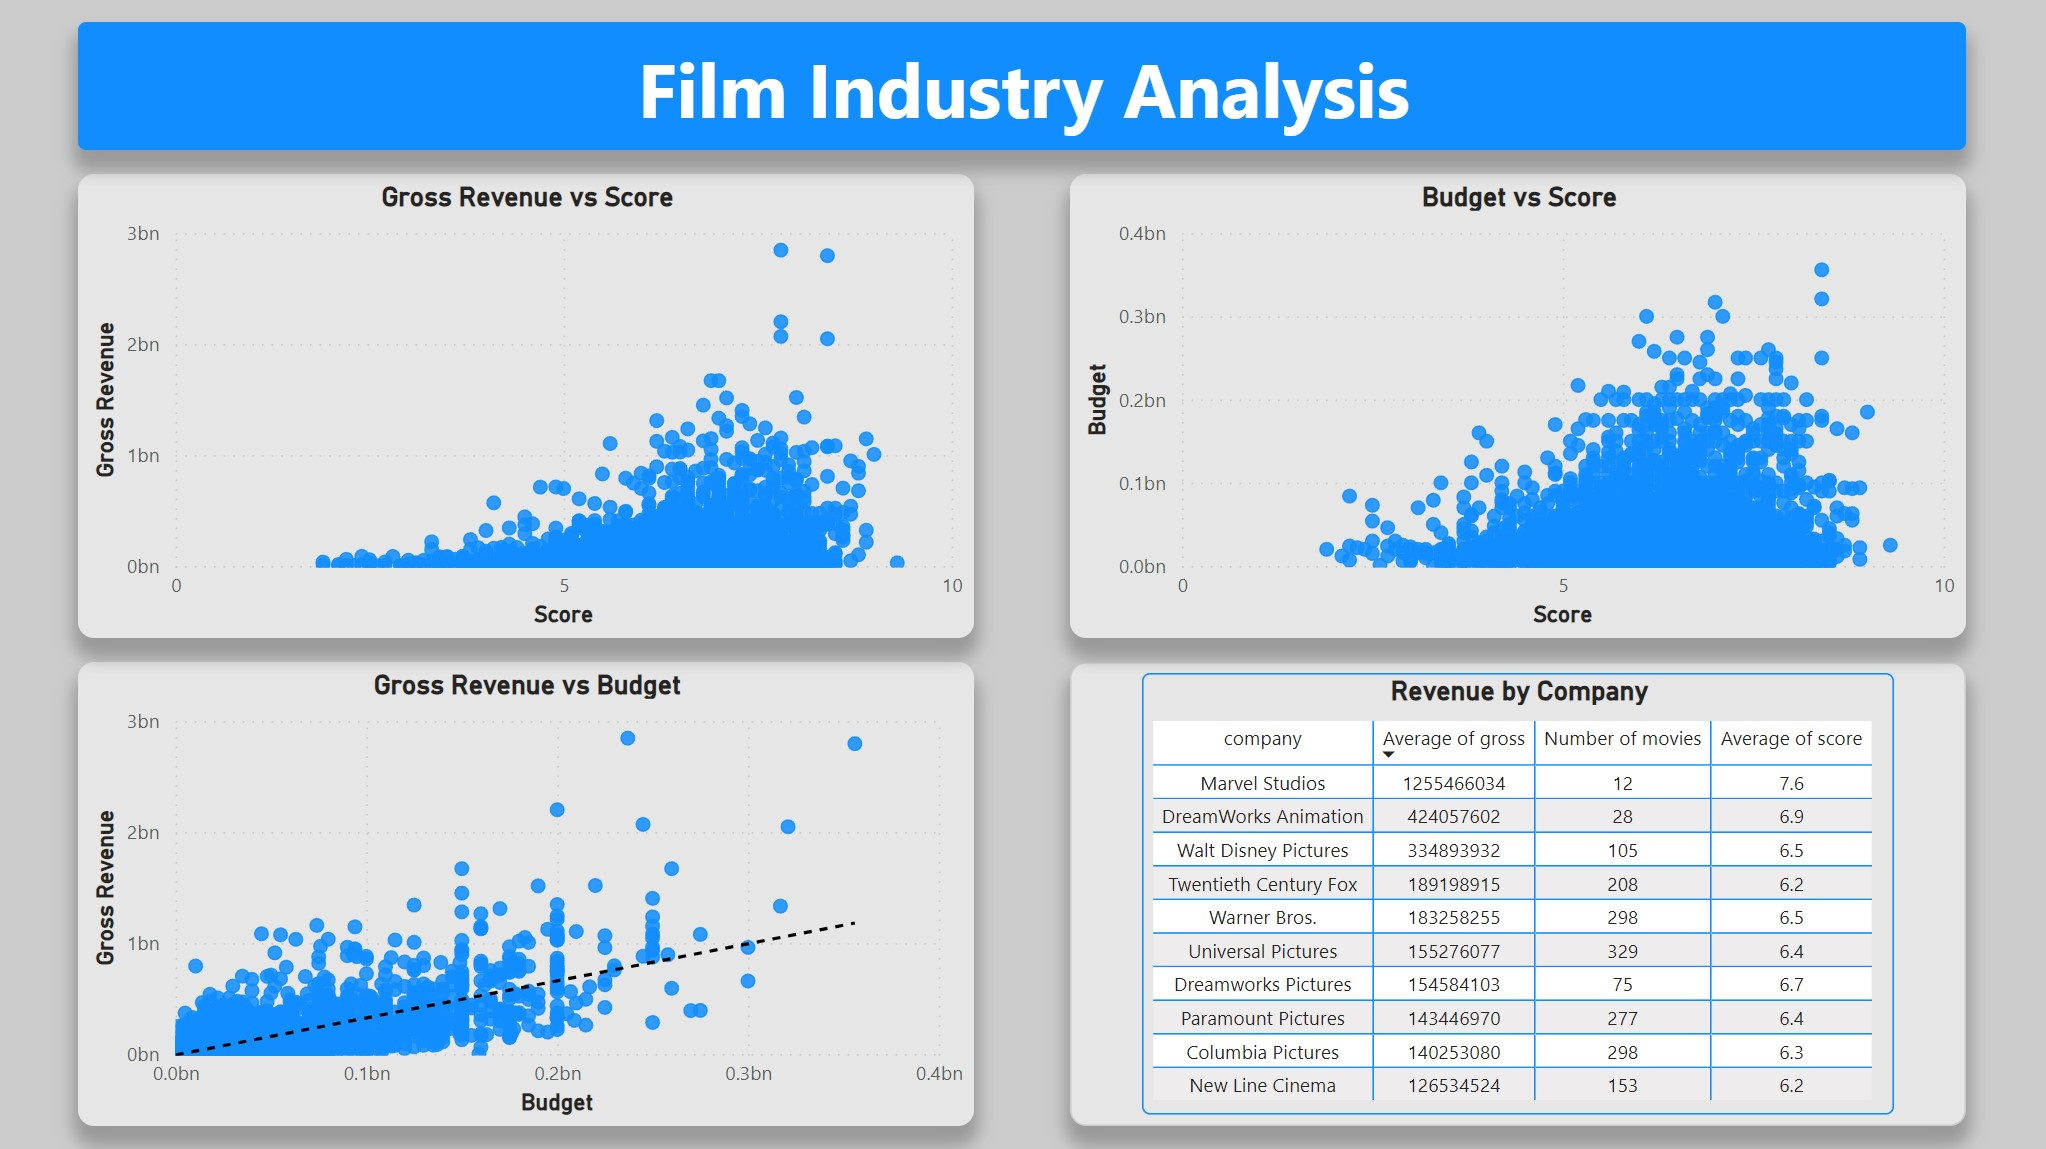

The page's visual inventory and layout, read from the dashboard file:
{"tool":"powerbi","page":{"name":"Page 1","canvas":[1280,720],"ordinal":0},"visuals":[{"type":"shape","box":[670,415,560,290],"z":0},{"type":"scatterChart","title":"Gross Revenue vs Budget","fields":{"X":["movie_data.budget"],"Y":["movie_data.gross"]},"box":[50,415,560,290],"z":1000},{"type":"tableEx","title":"Revenue by Company","fields":{"Values":["movie_data.company","Avg(movie_data.gross)","Count(movie_data.name)","Avg(movie_data.score)"]},"box":[715,421.9,470,275.6],"z":2000},{"type":"scatterChart","title":"Gross Revenue vs Score","fields":{"Y":["movie_data.gross"],"X":["movie_data.score"]},"box":[50,110,560,290],"z":3000},{"type":"scatterChart","title":"Budget vs Score","fields":{"X":["movie_data.score"],"Y":["movie_data.budget"]},"box":[670,110,560,290],"z":4000},{"type":"shape","box":[50,15,1180,80],"z":5000}]}

Visuals, with their boxes in screenshot pixels (x1, y1, x2, y2), scaled from the page's 1280x720 canvas onto the 2046x1149 screenshot:
shape: {"x1": 1071, "y1": 662, "x2": 1966, "y2": 1125}
"Gross Revenue vs Budget" scatterChart: {"x1": 80, "y1": 662, "x2": 975, "y2": 1125}
"Revenue by Company" tableEx: {"x1": 1143, "y1": 673, "x2": 1894, "y2": 1113}
"Gross Revenue vs Score" scatterChart: {"x1": 80, "y1": 176, "x2": 975, "y2": 638}
"Budget vs Score" scatterChart: {"x1": 1071, "y1": 176, "x2": 1966, "y2": 638}
shape: {"x1": 80, "y1": 24, "x2": 1966, "y2": 152}
